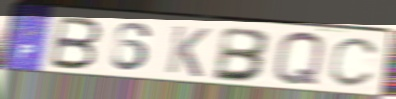6: (111, 21, 154, 74)
B: (211, 25, 274, 84), (46, 14, 105, 72)
C: (326, 37, 383, 90)
K: (164, 23, 213, 79)
Q: (271, 29, 327, 88)
